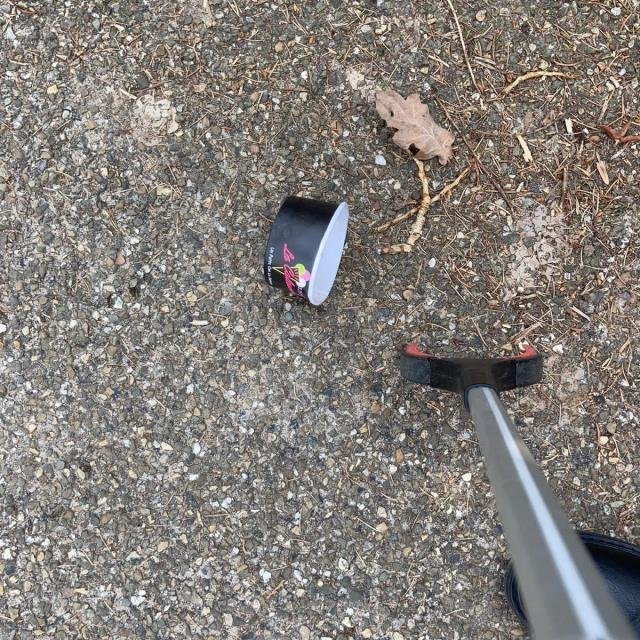Paper: (262, 193, 352, 307)
